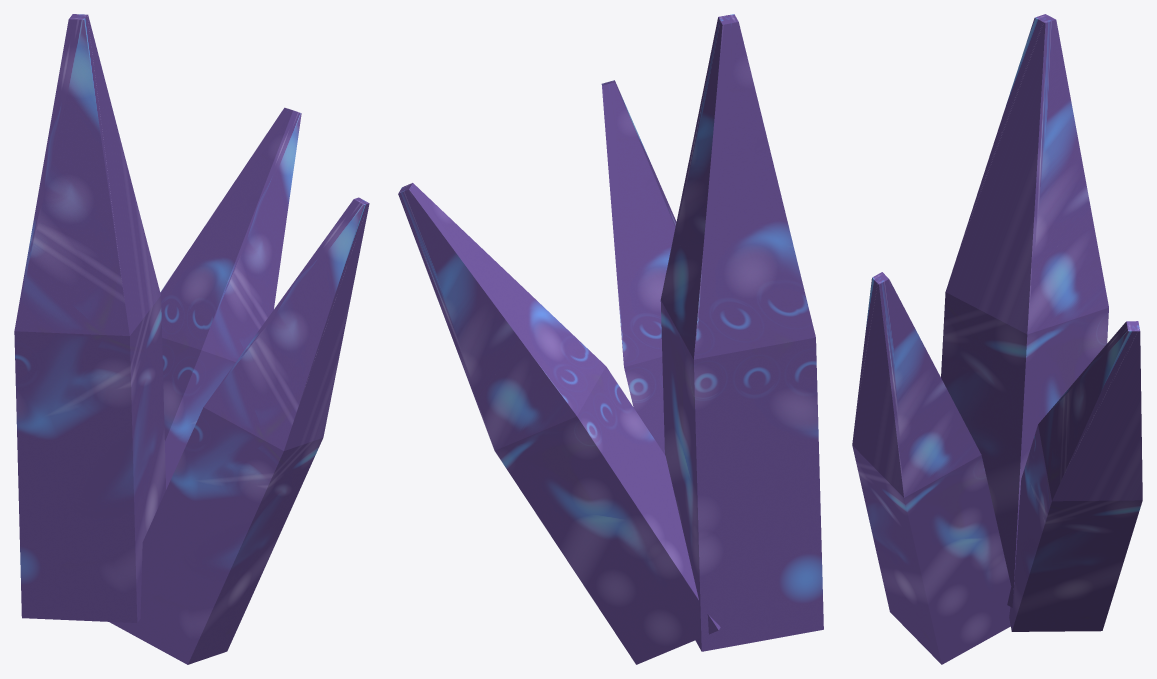
Rendered from diamonds.FBX.
3 renders of one model, left to right at view 1: azimuth 30°, elevation 25°; view 2: azimuth 150°, elevation 25°; view 3: azimuth 270°, elevation 25°, orthographic. The views are drawn at different scales.
Visible parts, largest first — view 1: Cylinder003; view 2: Cylinder003; view 3: Cylinder003.
Part boxes in pixels (bbox=[...]): Cylinder003: bbox=[14, 14, 369, 664]; Cylinder003: bbox=[398, 14, 823, 664]; Cylinder003: bbox=[852, 14, 1142, 664].
Bounding box in the file's own units: 85.64 × 150 × 65.39.
